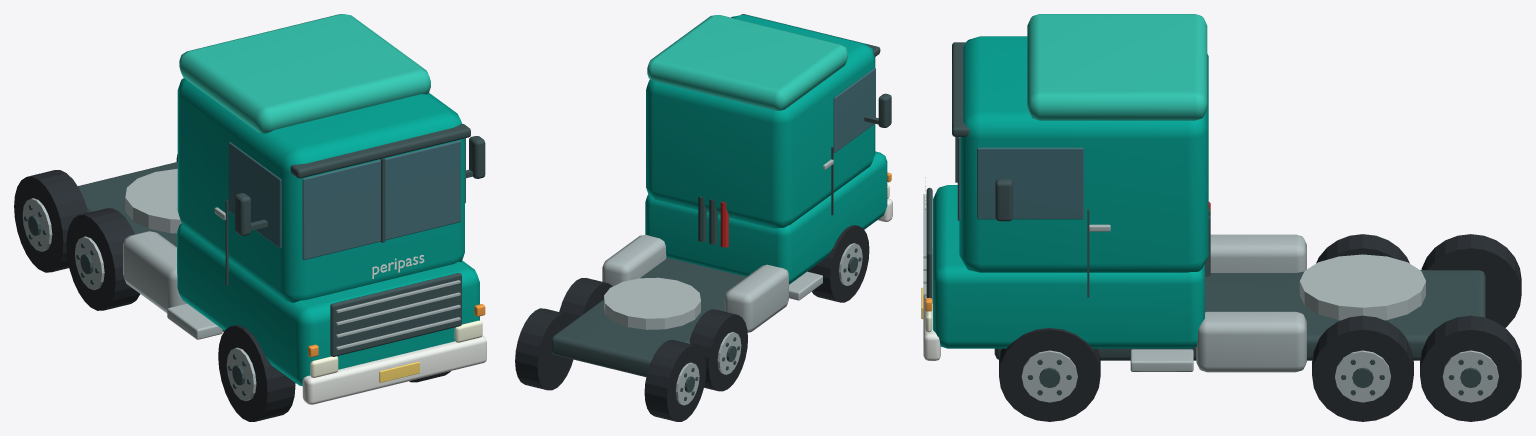
File: tractor.glb
3 renders of one model, left to right at view 1: azimuth 30°, elevation 25°; view 2: azimuth 150°, elevation 25°; view 3: azimuth 270°, elevation 25°, orthographic. The views are drawn at different scales.
Visible parts, largest first — view 1: Cab lower, Aero roof, Windshield, Ladder chassis, Grille slat, Bumper, Tire, Tire.001, Front wheel, Headlamp, Alloy hub, Alloy hub.001 (+2 smaller); view 2: Cab lower, Aero roof, Grille slat, Ladder chassis, Tire.003, Tire.001, Tire, Windshield, Front wheel, Tire.002, Alloy hub.001, Alloy hub.002 (+2 smaller); view 3: Cab lower, Grille slat, Aero roof, Ladder chassis, Windshield, Tire.003, Tire.002, Front wheel.001, Tire.001, Alloy hub.003, Alloy hub.005, Alloy hub.004 (+2 smaller).
Boxes of the visible parts, x1=… form: Cab lower: x1=177, y1=78, x2=479, y2=386; Aero roof: x1=179, y1=14, x2=430, y2=133; Windshield: x1=228, y1=138, x2=465, y2=260; Ladder chassis: x1=78, y1=123, x2=485, y2=383; Grille slat: x1=123, y1=168, x2=460, y2=349; Bumper: x1=302, y1=255, x2=486, y2=404; Tire: x1=66, y1=208, x2=140, y2=310; Tire.001: x1=14, y1=170, x2=87, y2=272; Front wheel: x1=218, y1=325, x2=295, y2=421; Headlamp: x1=310, y1=320, x2=482, y2=377; Alloy hub: x1=226, y1=347, x2=256, y2=401; Alloy hub.001: x1=75, y1=236, x2=104, y2=290; Cab lower: x1=645, y1=15, x2=887, y2=284; Aero roof: x1=647, y1=15, x2=847, y2=110; Grille slat: x1=602, y1=159, x2=833, y2=332; Ladder chassis: x1=552, y1=14, x2=891, y2=376; Tire.003: x1=515, y1=308, x2=573, y2=390; Tire.001: x1=644, y1=340, x2=706, y2=421; Tire: x1=689, y1=309, x2=747, y2=391; Windshield: x1=833, y1=68, x2=875, y2=152; Front wheel: x1=809, y1=225, x2=869, y2=302; Tire.002: x1=559, y1=278, x2=612, y2=320; Alloy hub.001: x1=717, y1=332, x2=741, y2=374; Alloy hub.002: x1=675, y1=362, x2=699, y2=405; Cab lower: x1=933, y1=36, x2=1208, y2=348; Grille slat: x1=923, y1=194, x2=1425, y2=372; Aero roof: x1=1027, y1=14, x2=1207, y2=120; Ladder chassis: x1=926, y1=42, x2=1485, y2=360; Windshield: x1=957, y1=137, x2=1083, y2=220; Tire.003: x1=1420, y1=315, x2=1521, y2=421; Tire.002: x1=1312, y1=315, x2=1413, y2=421; Front wheel.001: x1=999, y1=328, x2=1100, y2=421; Tire.001: x1=1421, y1=234, x2=1521, y2=327; Alloy hub.003: x1=1021, y1=350, x2=1077, y2=402; Alloy hub.005: x1=1442, y1=350, x2=1498, y2=402; Alloy hub.004: x1=1335, y1=350, x2=1390, y2=402.
Bounding box in the file's own units: 3.33 × 4.04 × 6.85.
